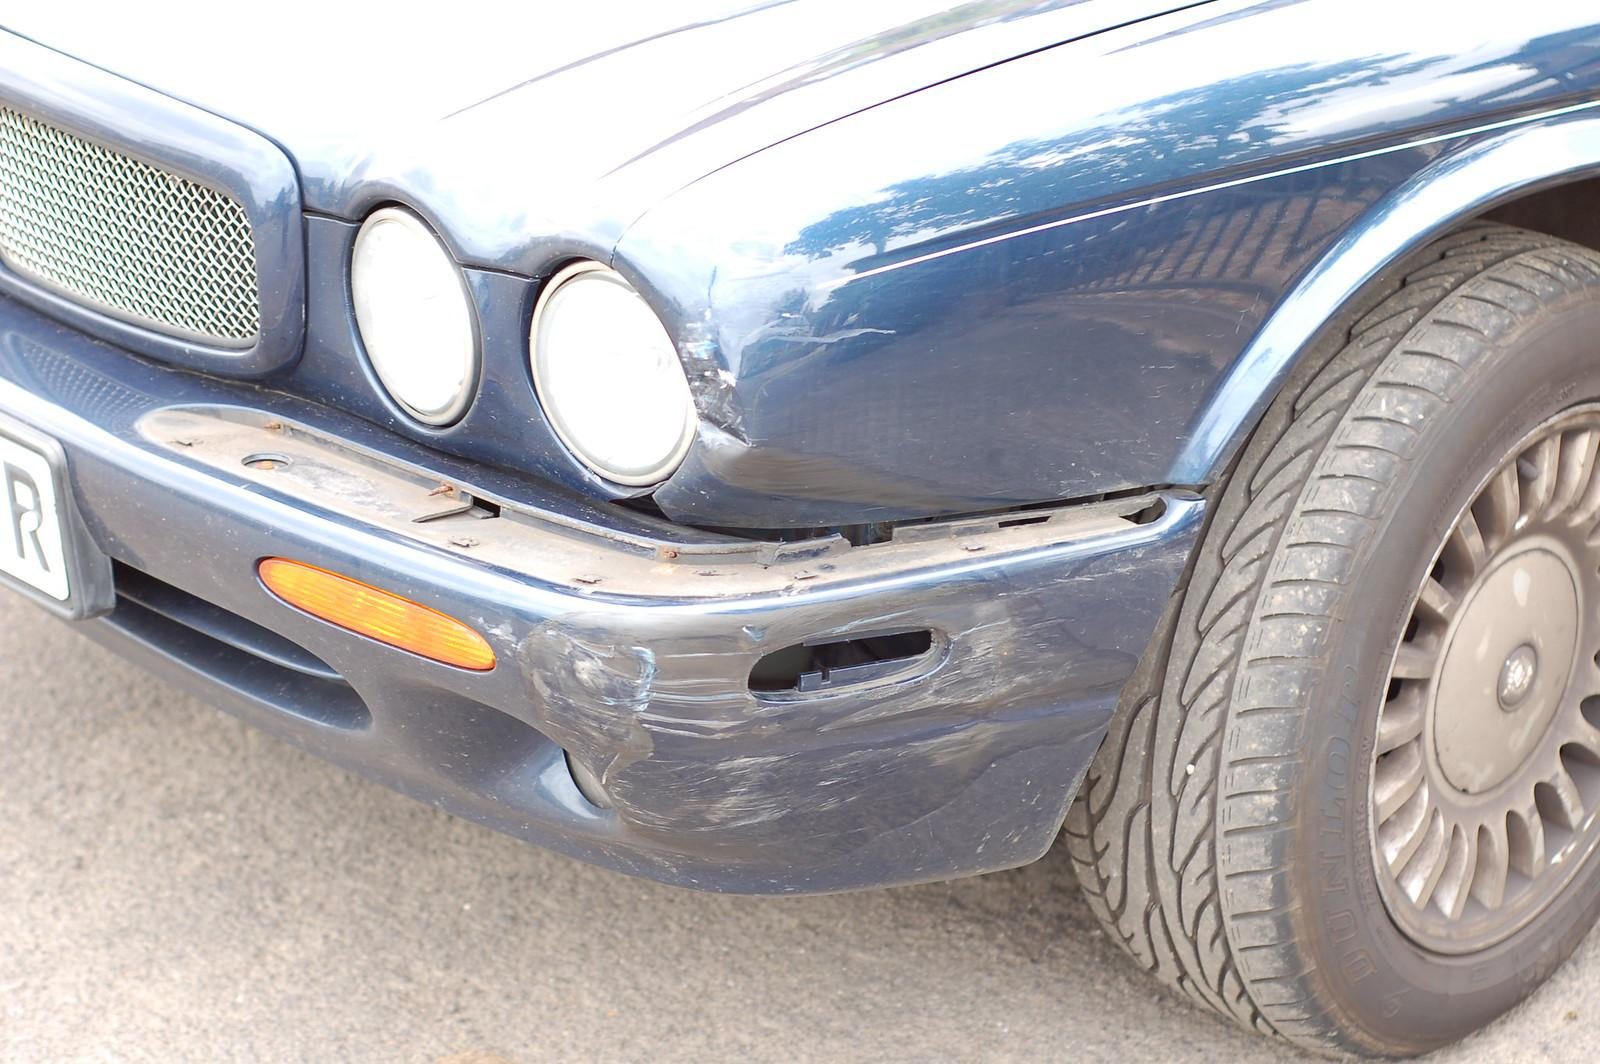front-bumper-dent: (408, 498, 1045, 889)
